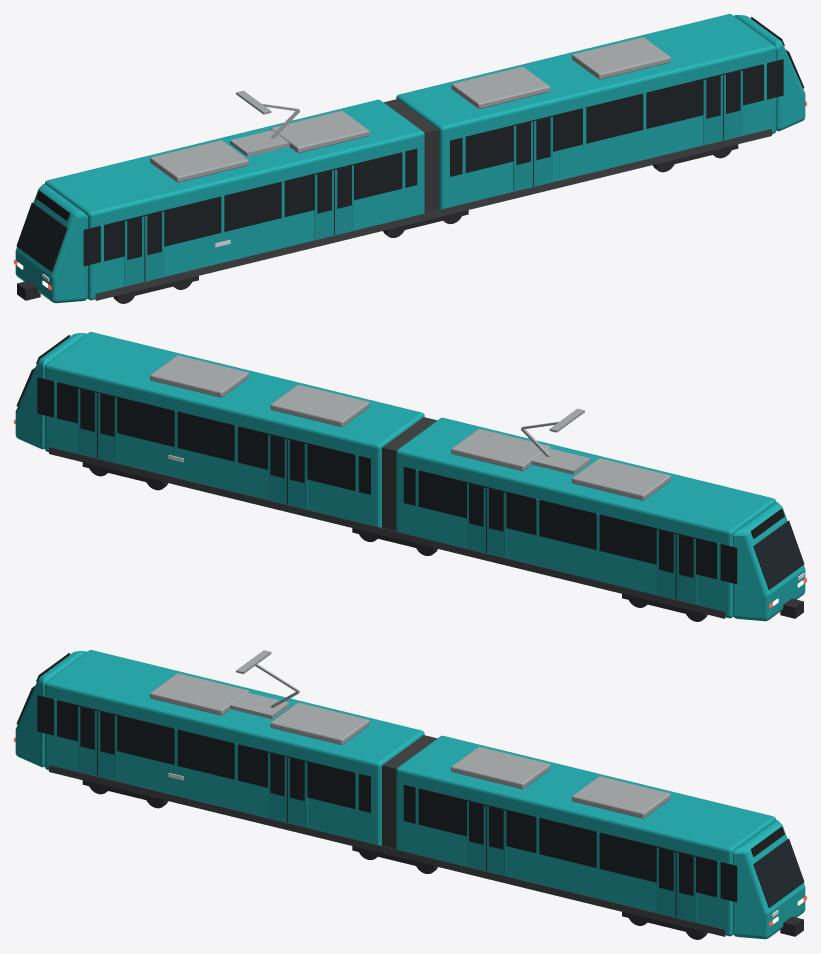
Rendered from ubahn_u5.glb.
The picture shows the model from 3 angles, top to bottom: view 1: azimuth 30°, elevation 25°; view 2: azimuth 150°, elevation 25°; view 3: azimuth 330°, elevation 25°; orthographic projection.
Parts seen in each view (by area): view 1: Kasten-1; view 2: Kasten-1; view 3: Kasten-1.
Part boxes in pixels (left/top/right/bottom): Kasten-1: left=14, top=14, right=806, bottom=303; Kasten-1: left=14, top=332, right=806, bottom=621; Kasten-1: left=14, top=650, right=806, bottom=939.
Size of the model in its own units: 25.82 by 4.99 by 2.71.
